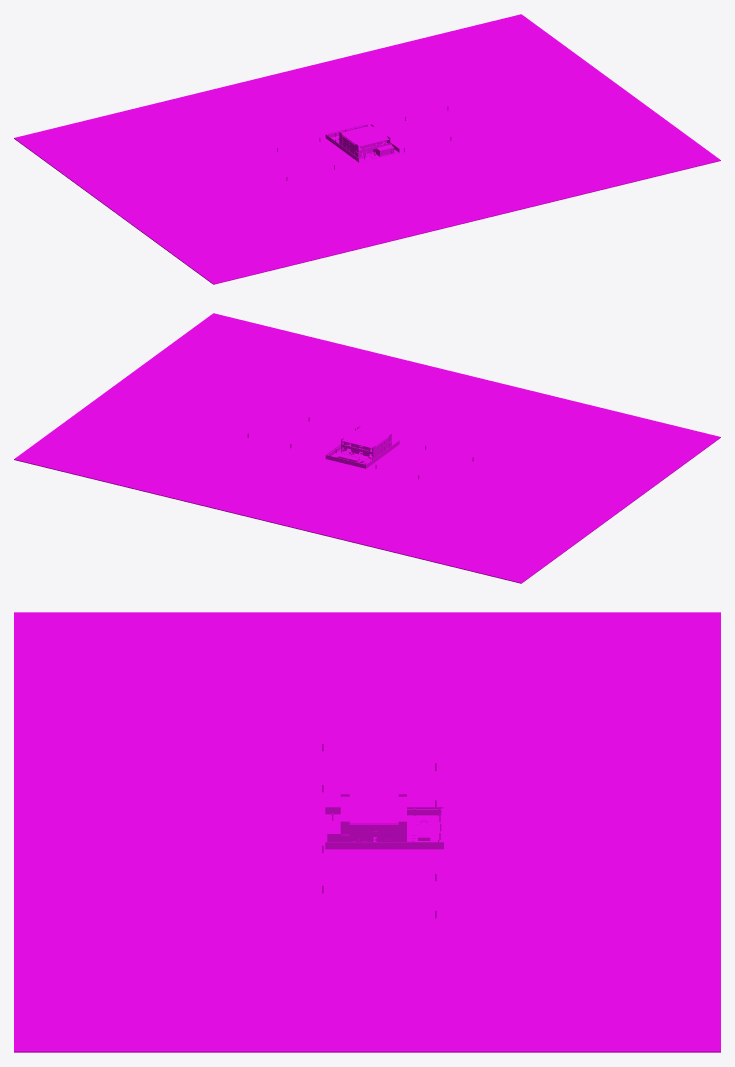
Rendered from collider.glb.
The picture shows the model from 3 angles, top to bottom: view 1: azimuth 30°, elevation 25°; view 2: azimuth 150°, elevation 25°; view 3: azimuth 270°, elevation 25°; orthographic projection. The views are drawn at different scales.
Parts seen in each view (by area): view 1: collider; view 2: collider; view 3: collider.
Boxes of the visible parts, x1,y1,x2,y2 form: collider: [14, 14, 720, 284]; collider: [14, 313, 720, 583]; collider: [14, 612, 720, 1052].
Bounding box in the file's own units: 300 × 10.7 × 204.
